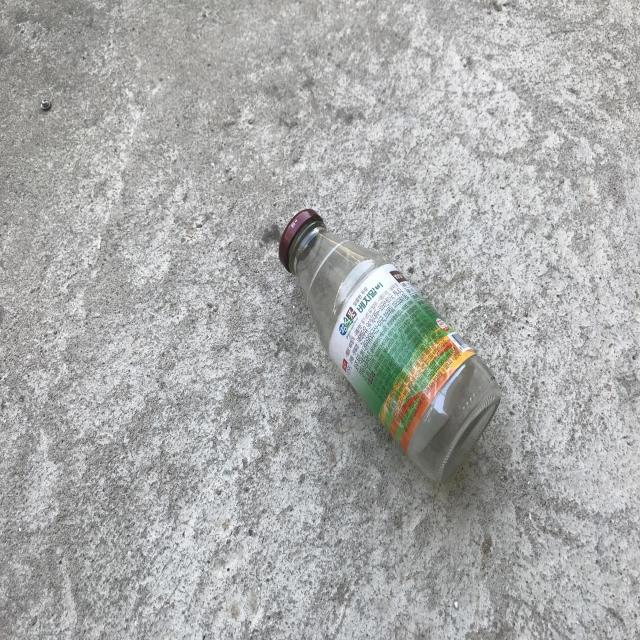glass: (279, 209, 502, 484)
